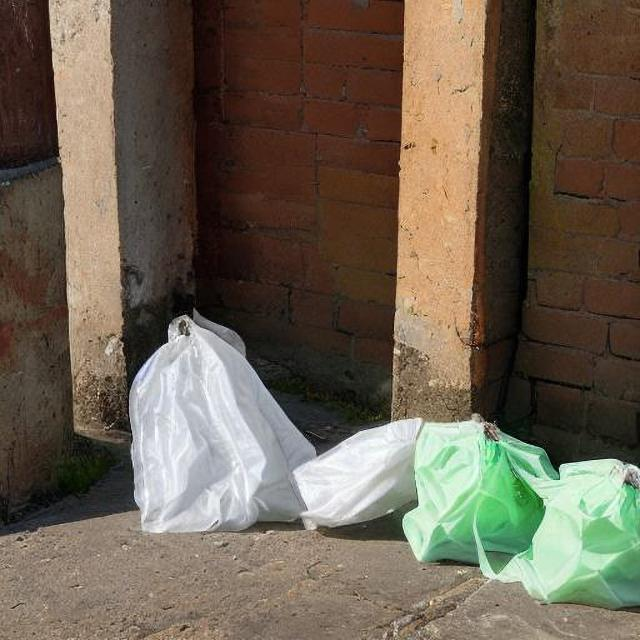plastic bag: (127, 301, 311, 530), (285, 416, 503, 540), (406, 423, 552, 567), (500, 458, 636, 608)
